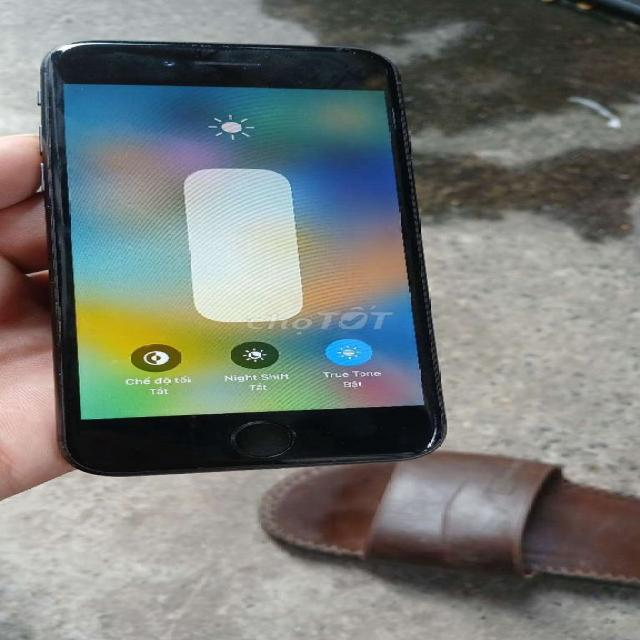gen_7_8: (36, 41, 444, 475)
